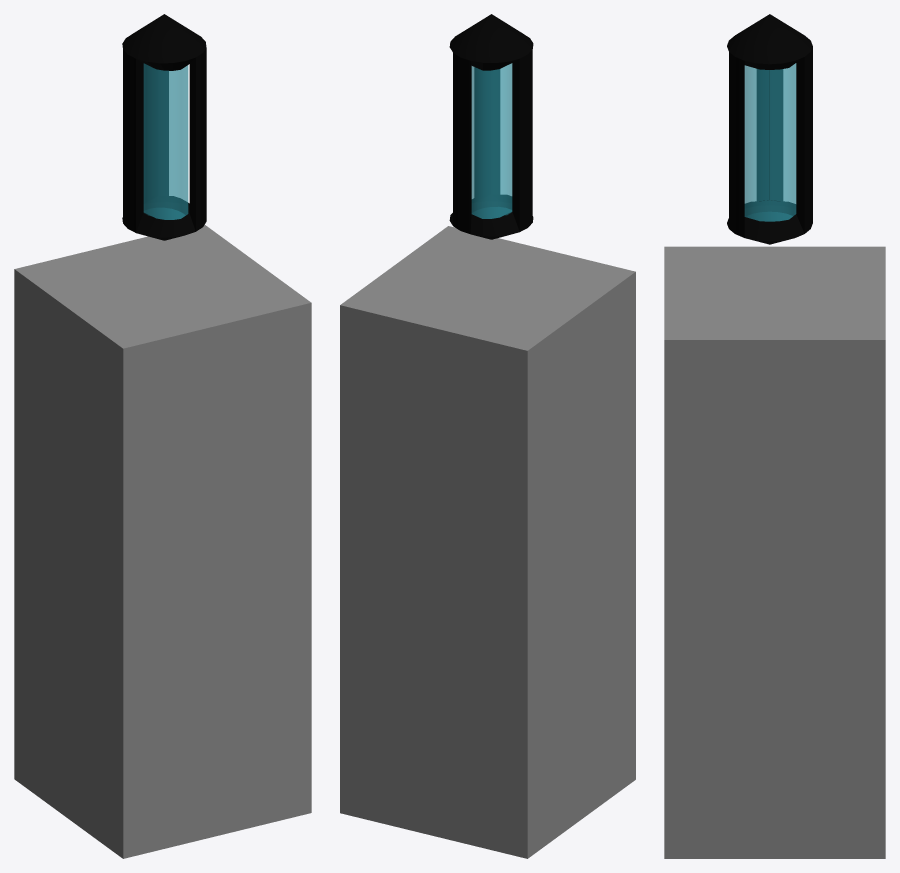
Rendered from mcguffin_colored.fbx.
3 renders of one model, left to right at view 1: azimuth 30°, elevation 25°; view 2: azimuth 150°, elevation 25°; view 3: azimuth 270°, elevation 25°, orthographic. The views are drawn at different scales.
Visible parts, largest first — view 1: pCube1, pCylinder1, pCylinder2; view 2: pCube1, pCylinder1, pCylinder2; view 3: pCube1, pCylinder1, pCylinder2.
Boxes of the visible parts, x1,y1,x2,y2 form: pCube1: (14, 225, 311, 858); pCylinder1: (122, 14, 206, 240); pCylinder2: (143, 63, 188, 219); pCube1: (340, 226, 635, 858); pCylinder1: (449, 14, 533, 239); pCylinder2: (471, 63, 512, 218); pCube1: (664, 246, 885, 858); pCylinder1: (727, 14, 812, 244); pCylinder2: (744, 63, 796, 221).
Bounding box in the file's own units: 38.34 × 153 × 38.34.
